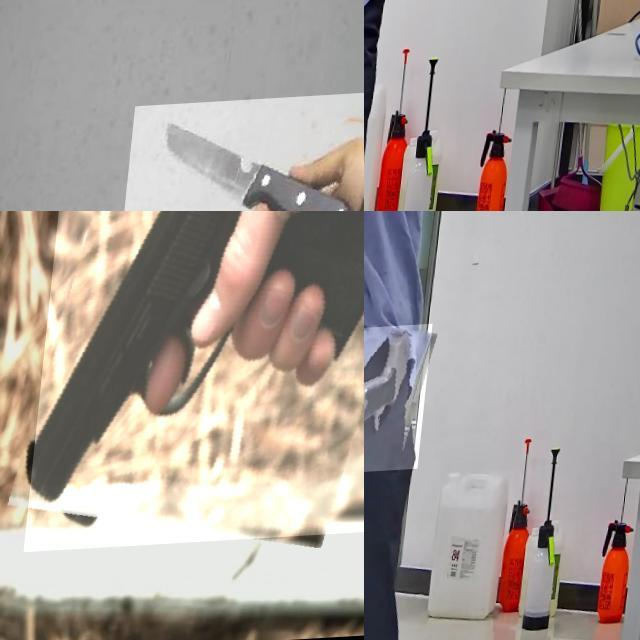-: (126, 98, 364, 211)
gun-knife-thesis - v11 Yolov5 augmented: (35, 211, 364, 554), (364, 326, 439, 476), (364, 0, 417, 46)
